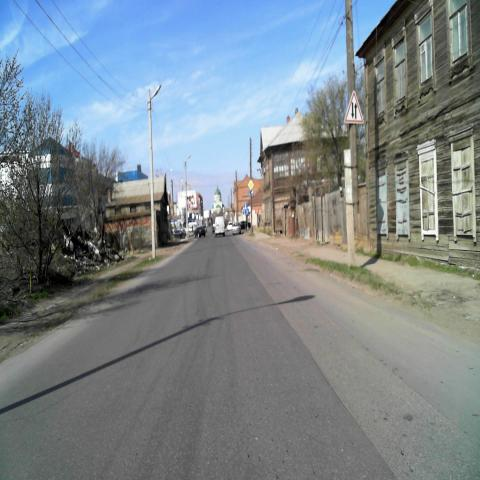1_21: (344, 90, 364, 123)
